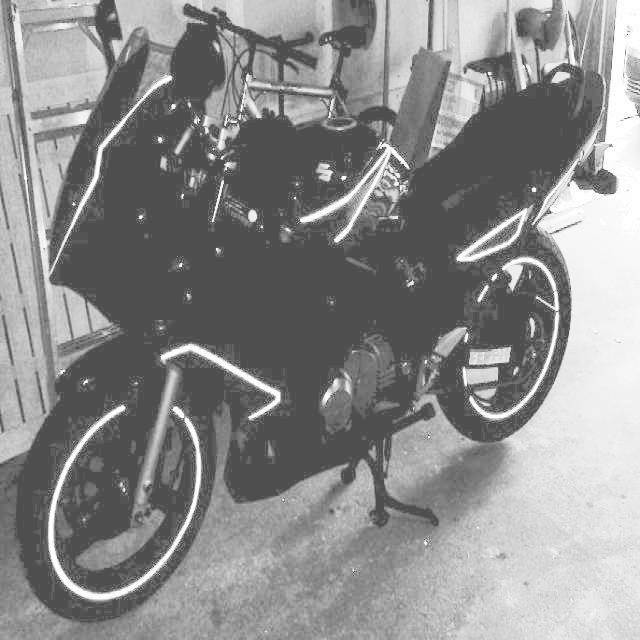Motorcycle: (19, 0, 620, 626)
